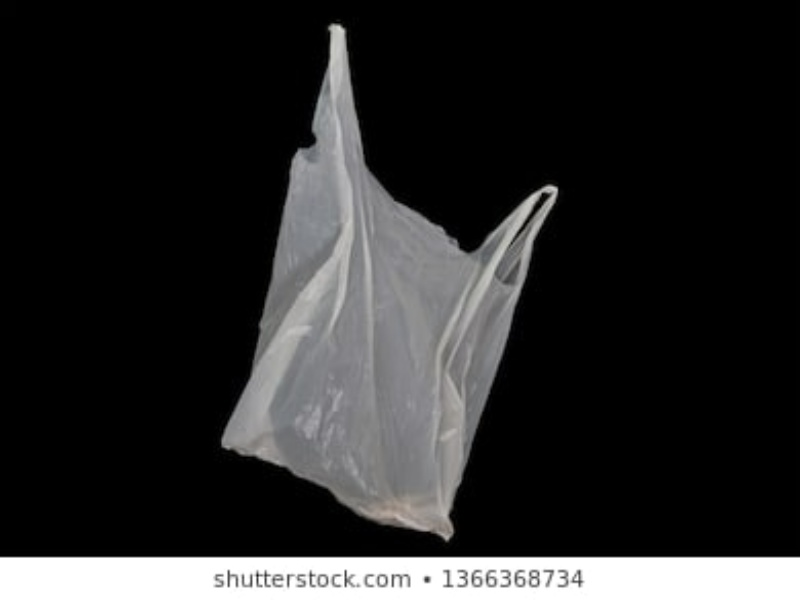plastic-bag: (221, 22, 557, 545)
